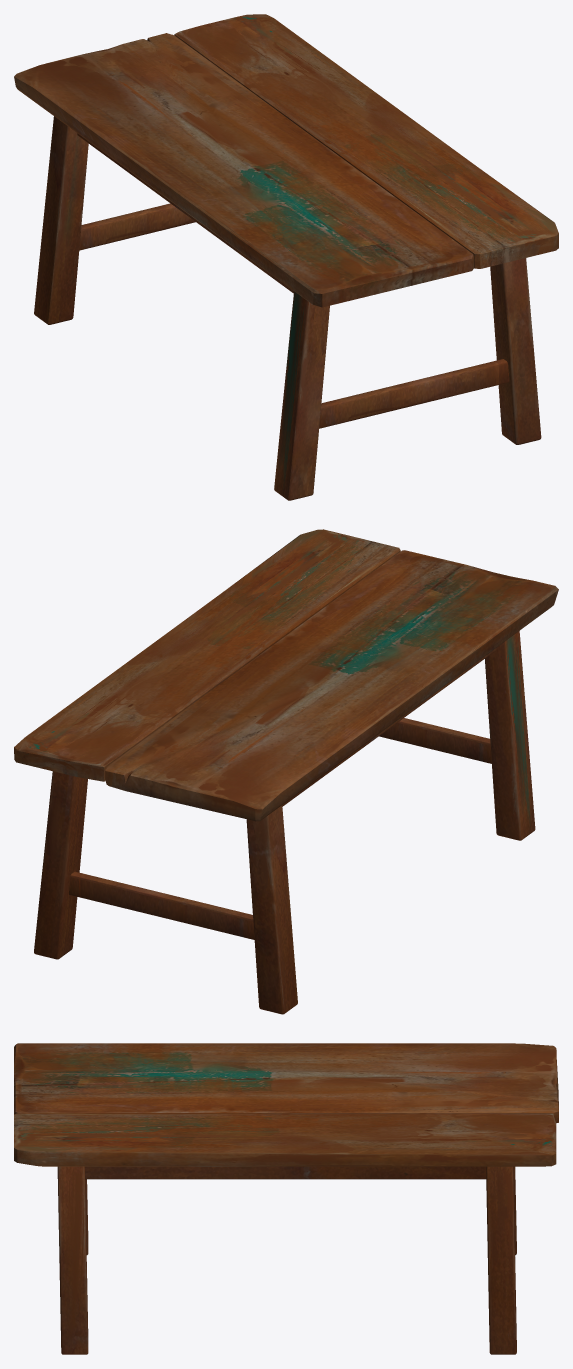
Rendered from wood_table.fbx.
3 views of the same model, one above another, from view 1: azimuth 30°, elevation 25°; view 2: azimuth 150°, elevation 25°; view 3: azimuth 270°, elevation 25° (orthographic). The views are drawn at different scales.
Visible parts, largest first — view 1: 立方体.066; view 2: 立方体.066; view 3: 立方体.066.
Part boxes in pixels (bbox=[...]): 立方体.066: bbox=[14, 14, 558, 500]; 立方体.066: bbox=[14, 529, 558, 1014]; 立方体.066: bbox=[14, 1043, 558, 1354].
Size of the model in its own units: 68.52 by 58.86 by 143.
Materials: 1 (1 with a texture image).
